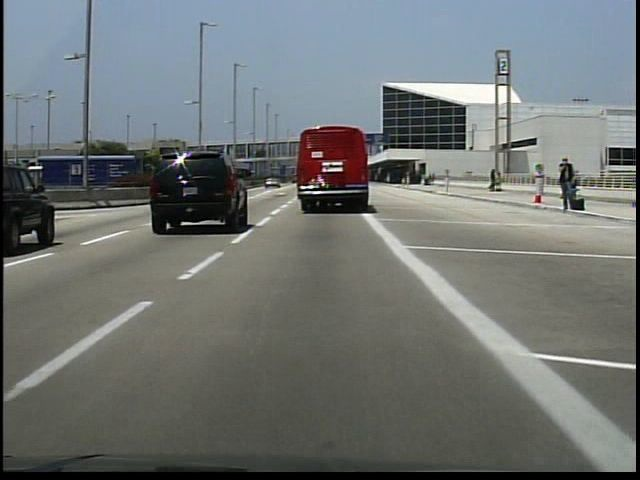person: (554, 153, 579, 216), (559, 171, 582, 205)
